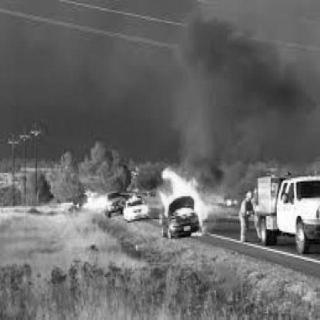Smoke: (174, 10, 302, 154)
other: (230, 178, 264, 246), (79, 185, 113, 213)
